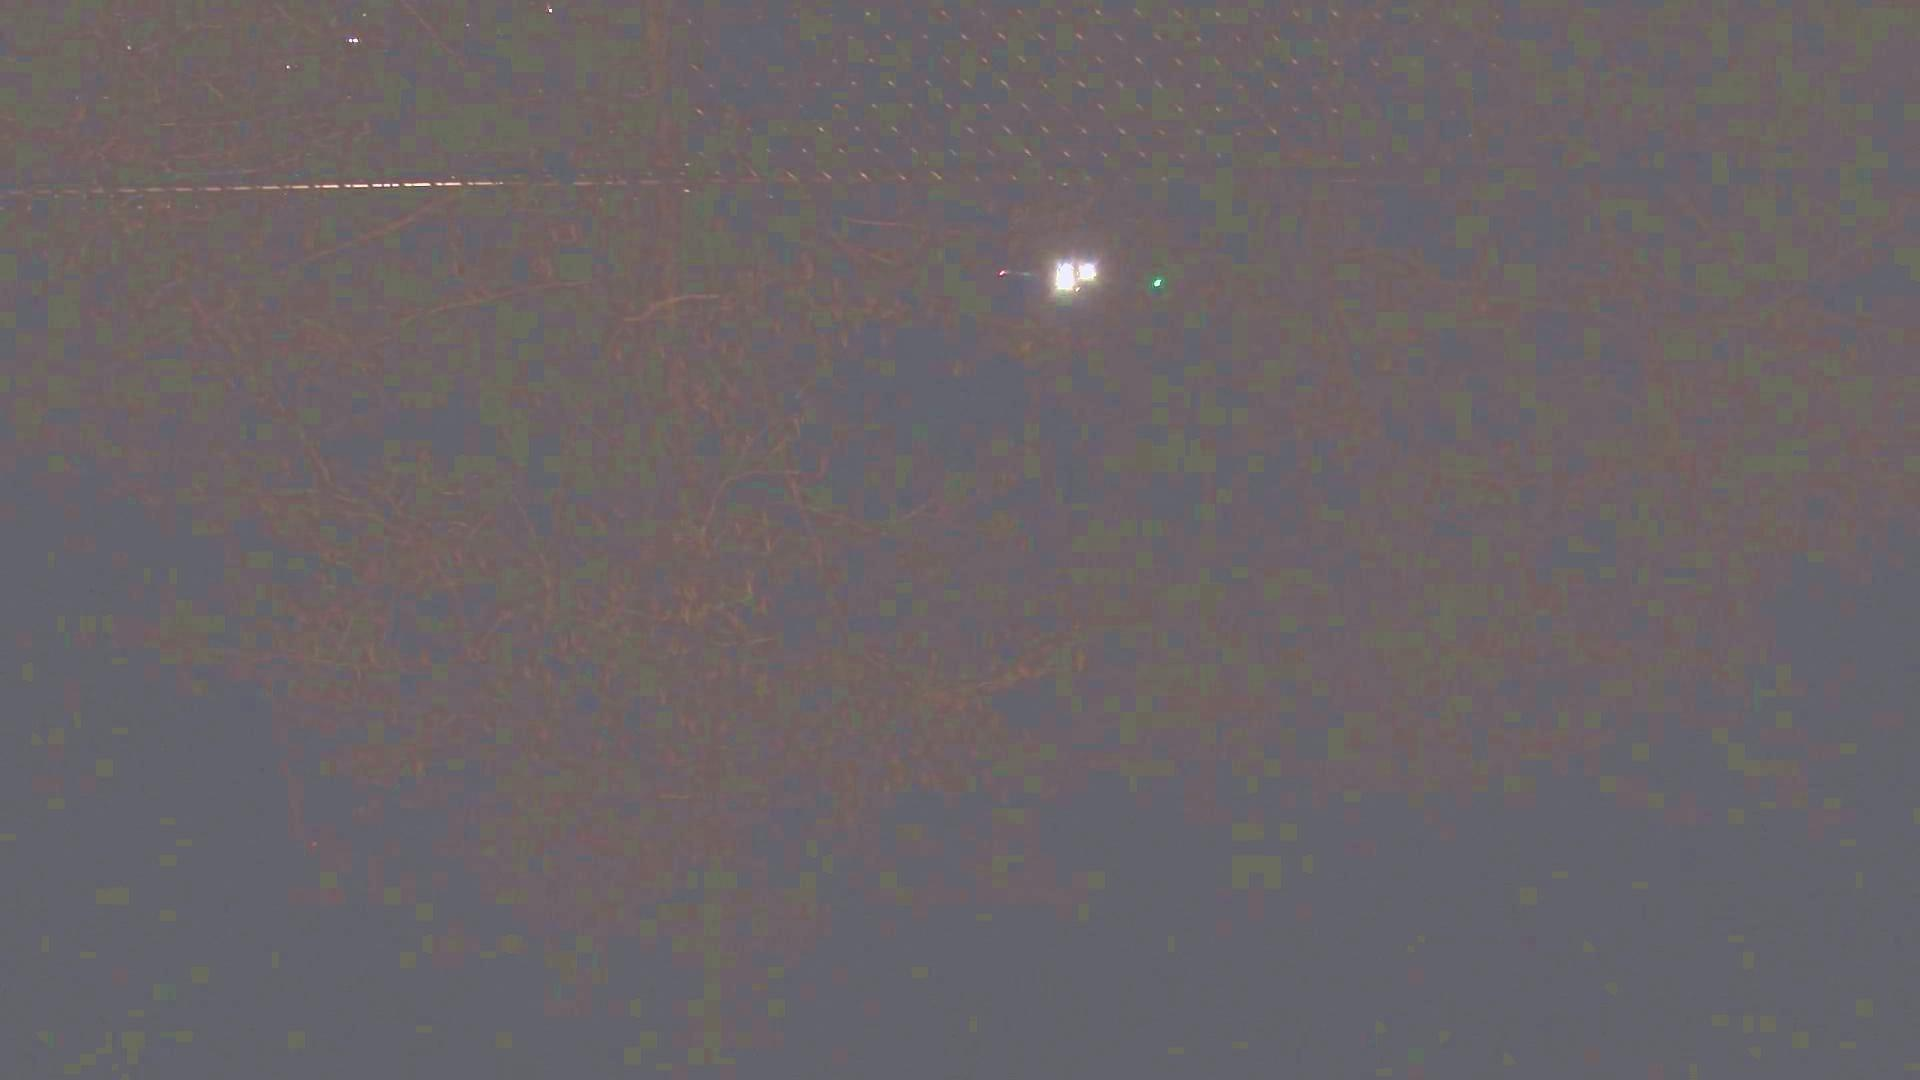Plane: (953, 244, 1185, 309)
